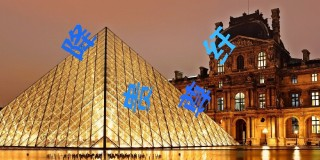纤: (204, 24, 235, 64)
薄: (177, 80, 212, 117)
贵: (122, 82, 154, 112)
降: (60, 24, 98, 59)
